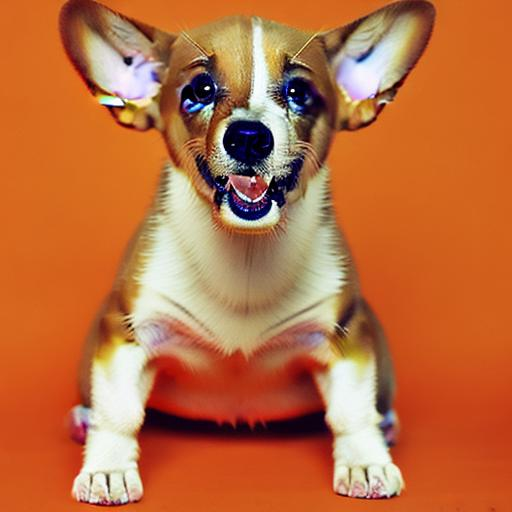eye: (280, 71, 322, 117), (178, 73, 226, 108)
